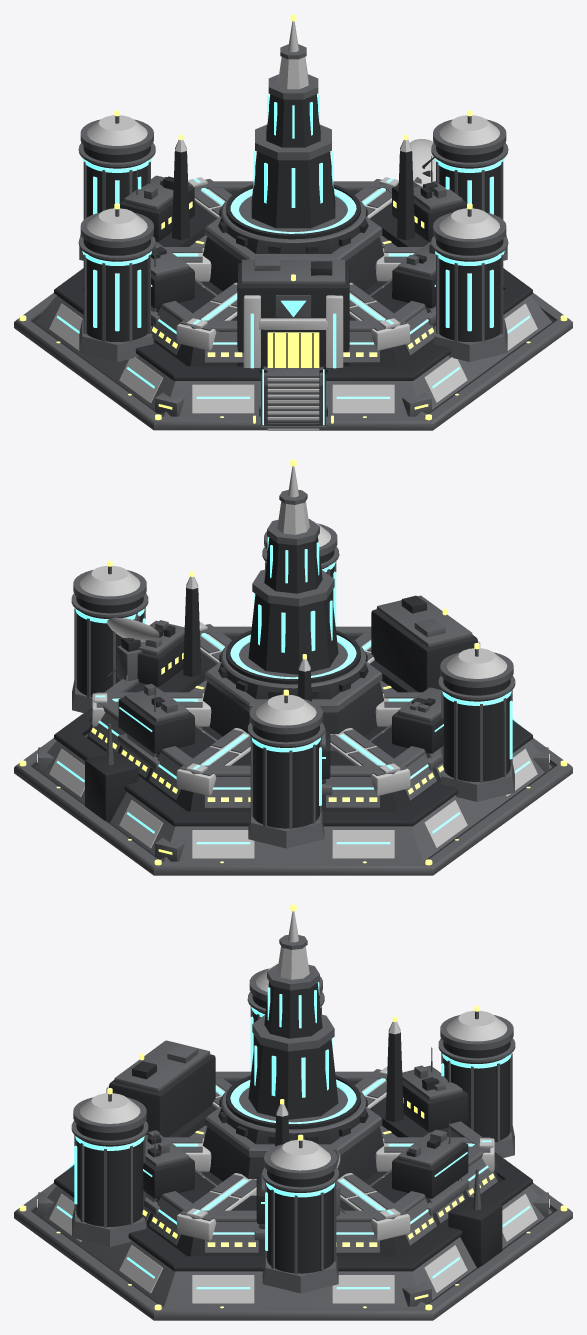
File: sb_command_t1.glb
3 renders of one model, top to bottom at view 1: azimuth 30°, elevation 25°; view 2: azimuth 150°, elevation 25°; view 3: azimuth 270°, elevation 25°, orthographic.
Visible parts, largest first — view 1: SM_CC_BODY, SM_CC_LIGHTS; view 2: SM_CC_BODY, SM_CC_LIGHTS; view 3: SM_CC_BODY, SM_CC_LIGHTS.
Part boxes in pixels (x1,y1,x2,y2): SM_CC_BODY: (14,21,572,430); SM_CC_LIGHTS: (19,14,567,425); SM_CC_BODY: (14,466,572,875); SM_CC_LIGHTS: (19,459,567,865); SM_CC_BODY: (14,911,572,1320); SM_CC_LIGHTS: (19,904,567,1310).
Size of the model in its own units: 49.05 by 33.86 by 54.5.
